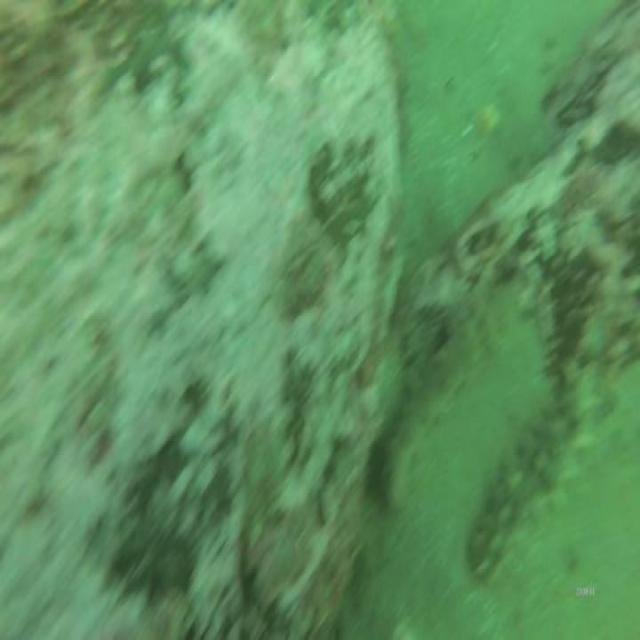holothurian: (466, 362, 599, 581), (380, 315, 486, 504)
